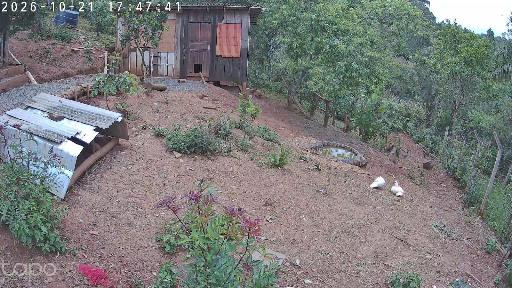galinha: (248, 88, 258, 96), (260, 91, 266, 102)
pato: (389, 181, 405, 200), (370, 175, 386, 192)
